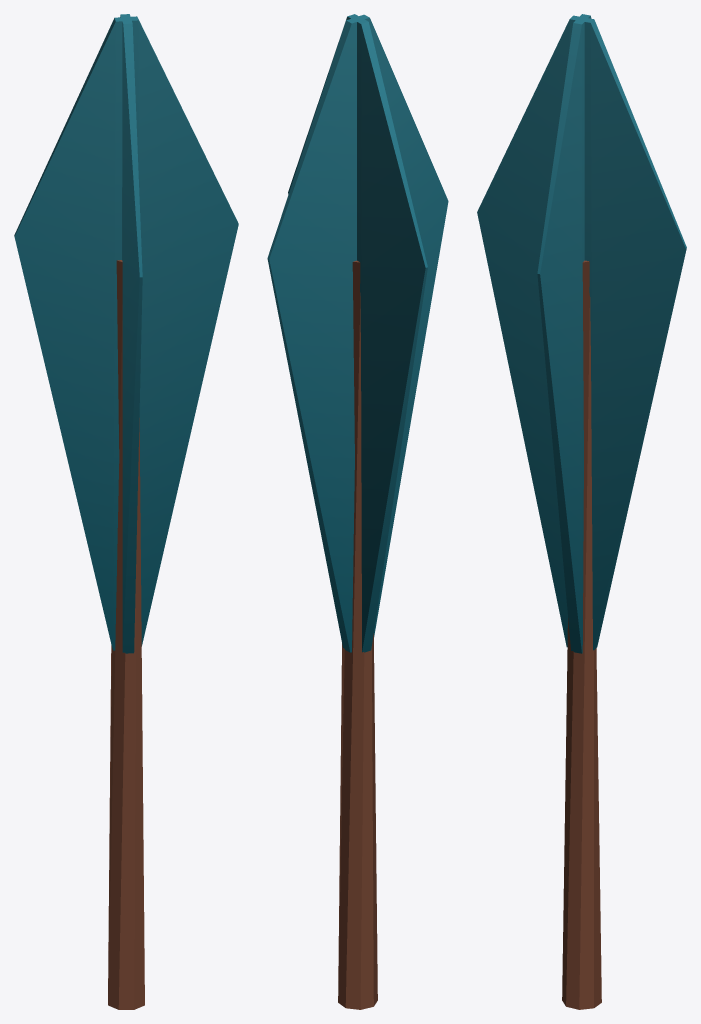
Rendered from Tree_30_gradient_blue_vc.fbx.
3 renders of one model, left to right at view 1: azimuth 30°, elevation 25°; view 2: azimuth 150°, elevation 25°; view 3: azimuth 270°, elevation 25°, orthographic.
Parts seen in each view (by area): view 1: Tree_30_gradient_blue_vc; view 2: Tree_30_gradient_blue_vc; view 3: Tree_30_gradient_blue_vc.
Part boxes in pixels (<box>): Tree_30_gradient_blue_vc: <box>14,14,238,1009</box>; Tree_30_gradient_blue_vc: <box>267,14,448,1009</box>; Tree_30_gradient_blue_vc: <box>477,14,686,1009</box>.
Size of the model in its own units: 48.99 by 253 by 48.99.
